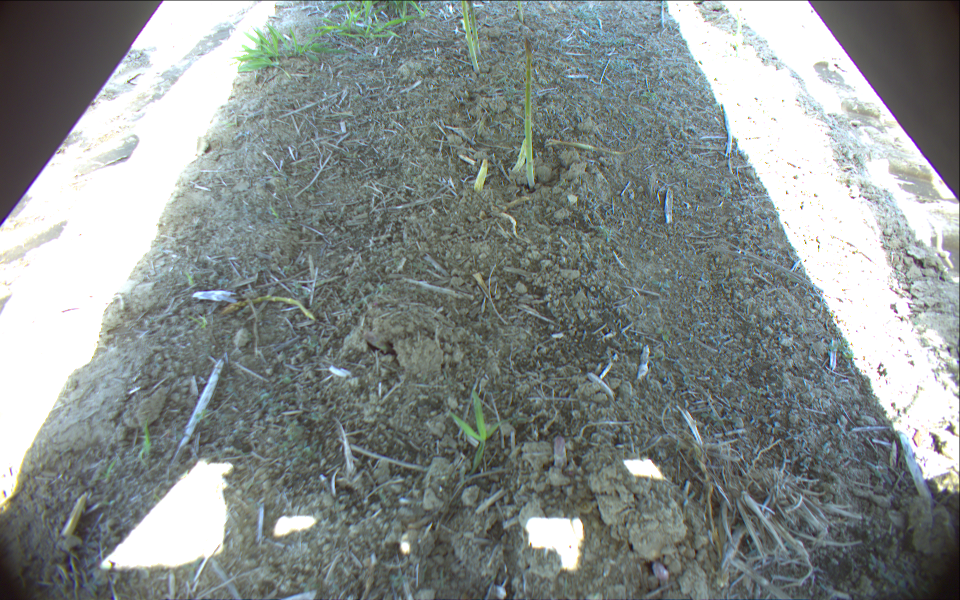aspa: (220, 295, 317, 322), (525, 37, 536, 188), (461, 1, 479, 74), (468, 1, 482, 55), (509, 138, 527, 174), (552, 434, 566, 469), (475, 159, 488, 192), (513, 1, 526, 22)
